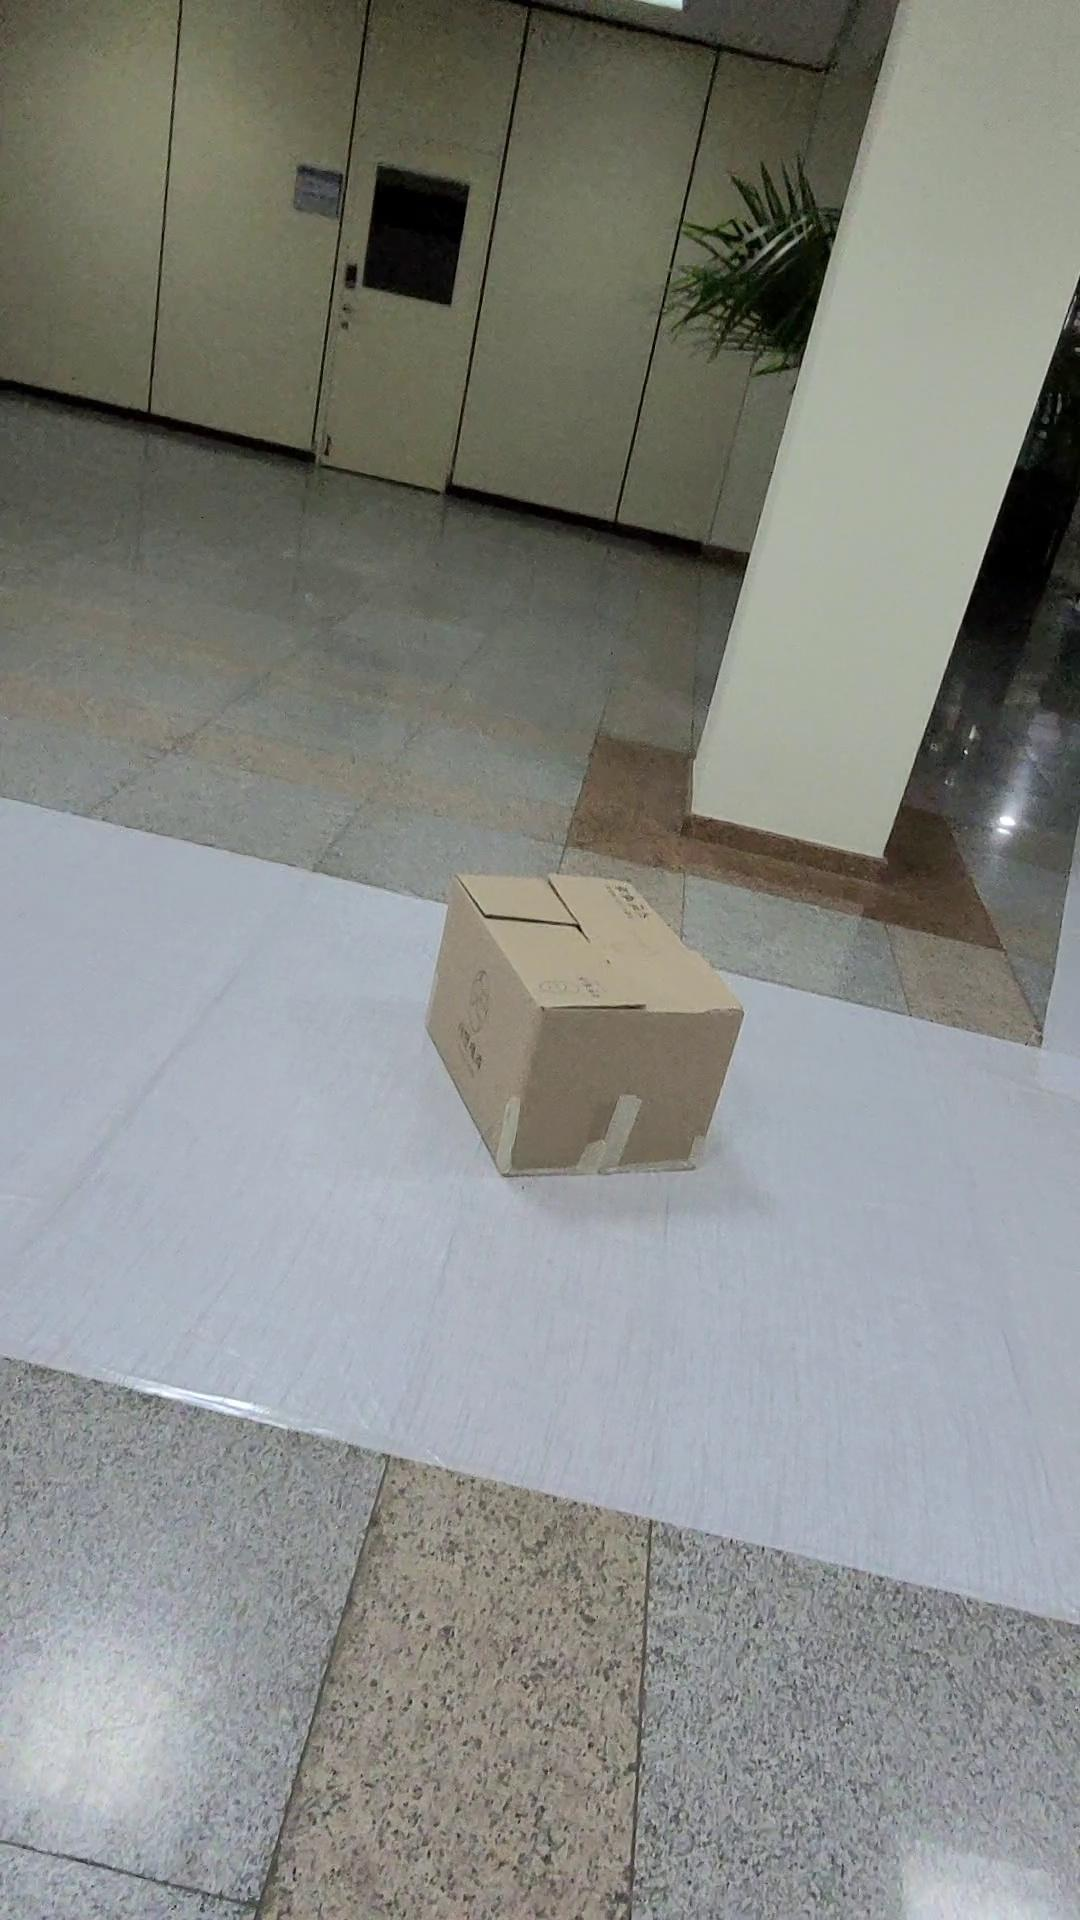Box: (404, 860, 771, 1225)
